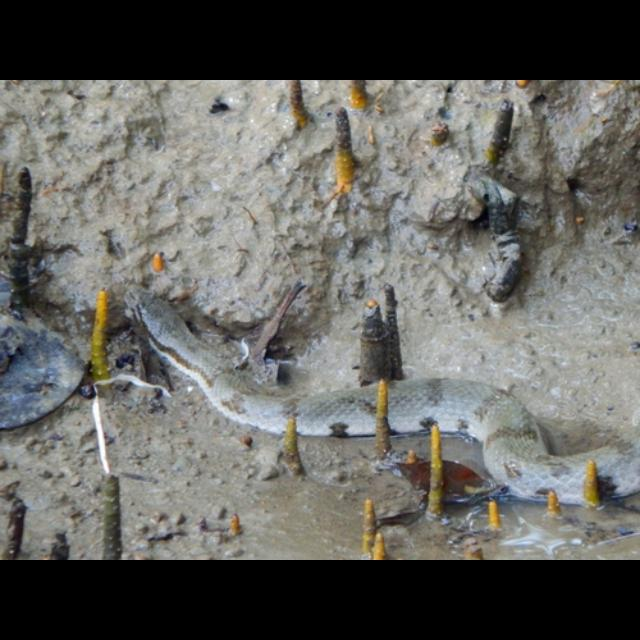snake: (118, 275, 640, 513)
